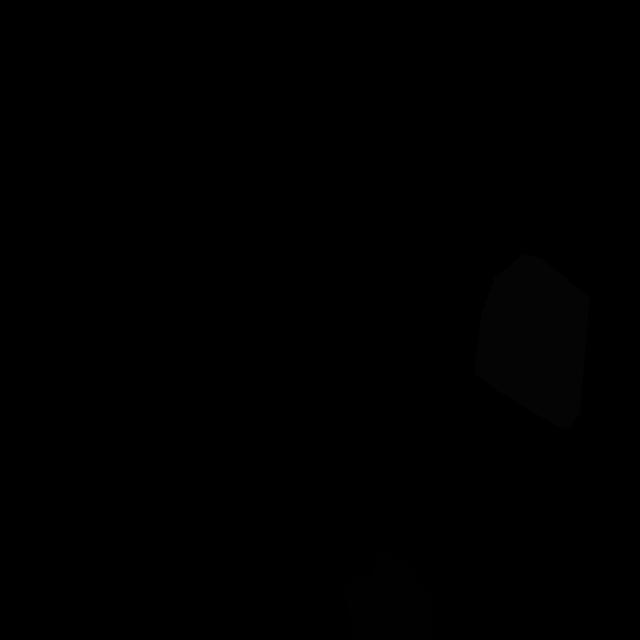rigid_plastic: (344, 546, 437, 639)
soft_plastic: (474, 253, 590, 429)
